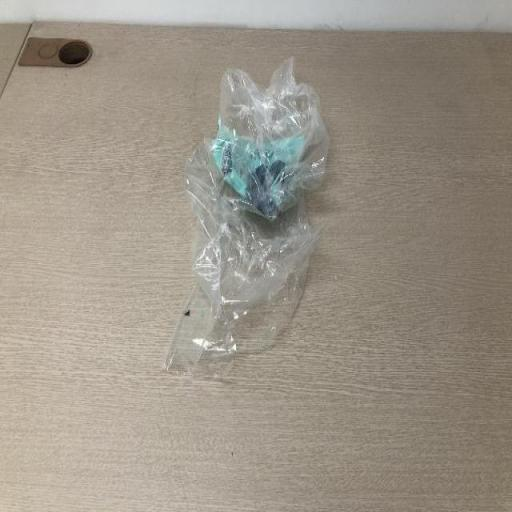plastic-bag: (162, 56, 332, 374)
